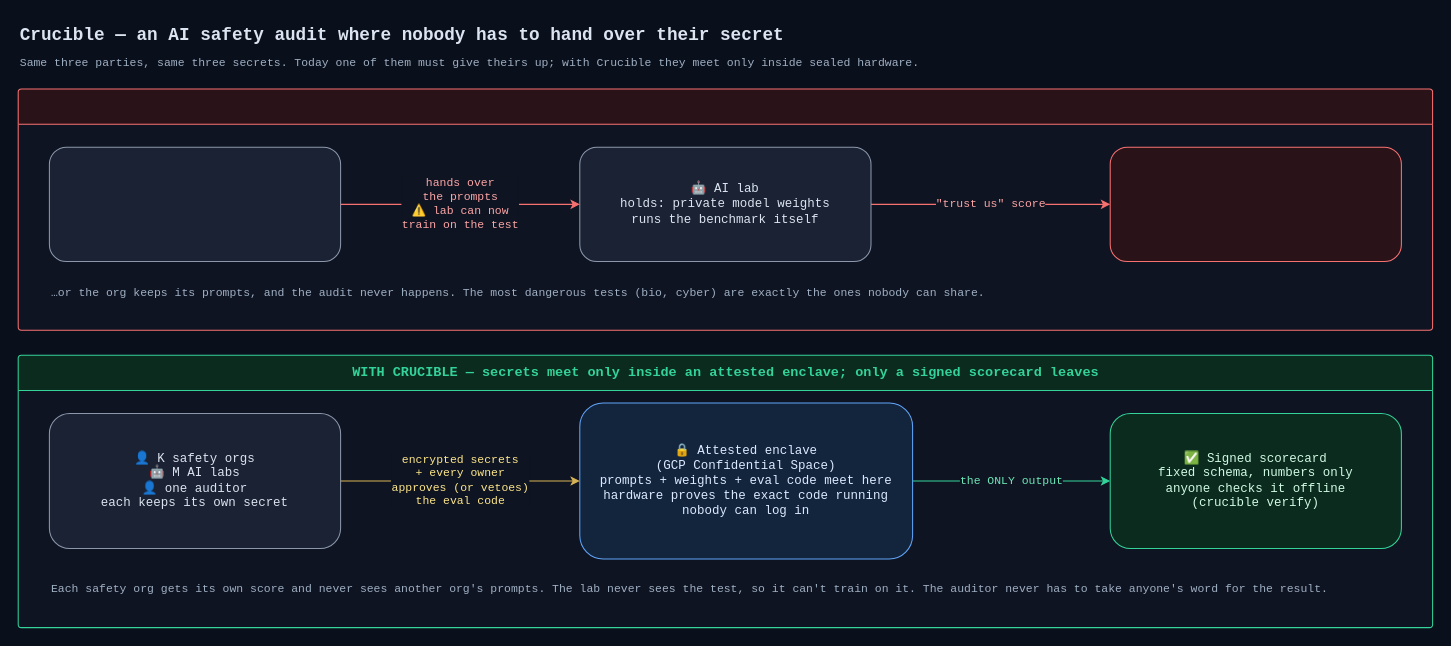
Some shapes in this 1451 by 646 pixel diagram are drawn without their labels. Each missing label, with the box of its shape:
TODAY — the test leaks, or the score can't be checked: (17, 88, 1433, 330)
👤 Auditor / regulator gets: a self-reported score ⚠️ no way to check it: (1109, 146, 1401, 262)
👤 Safety org holds: a private benchmark (real scam scripts, hazardous prompts): (48, 146, 341, 262)
